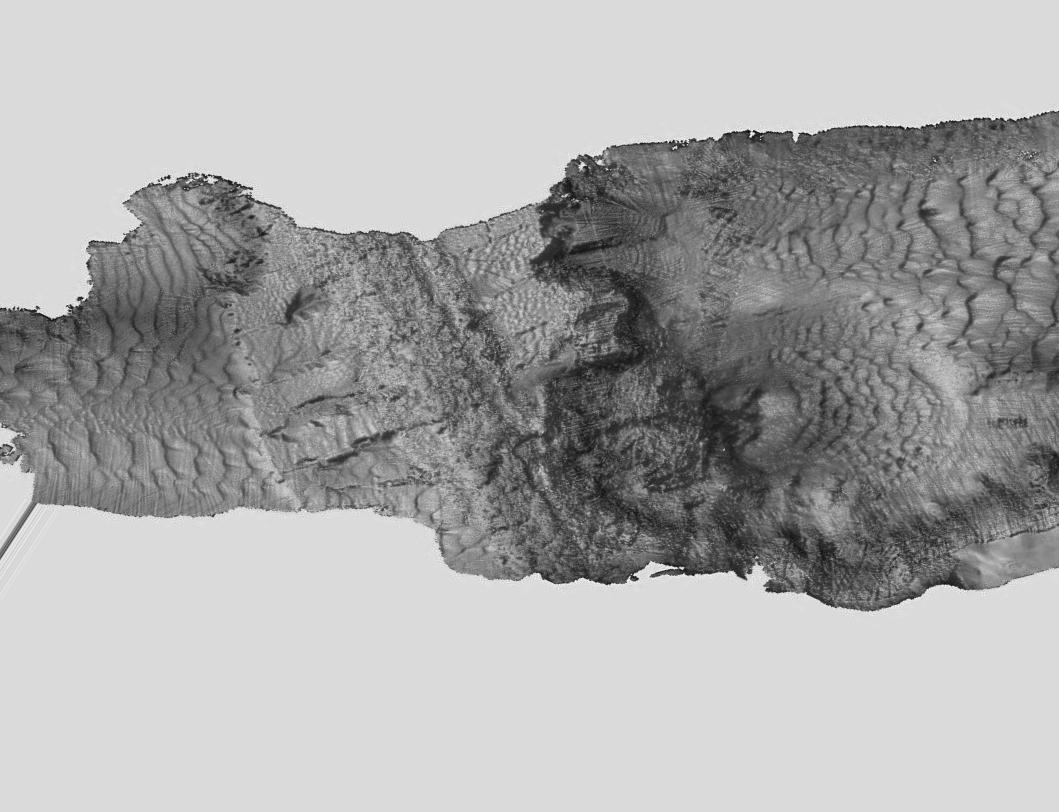Dune: (46, 279, 231, 535), (759, 184, 1043, 290), (802, 317, 955, 488), (843, 248, 1049, 369)
Scarp: (560, 527, 1052, 659)
Scour pit: (660, 336, 839, 484)
Submerged dike: (350, 222, 571, 606)
